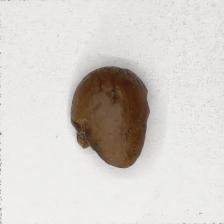NG: (71, 117, 100, 154)
